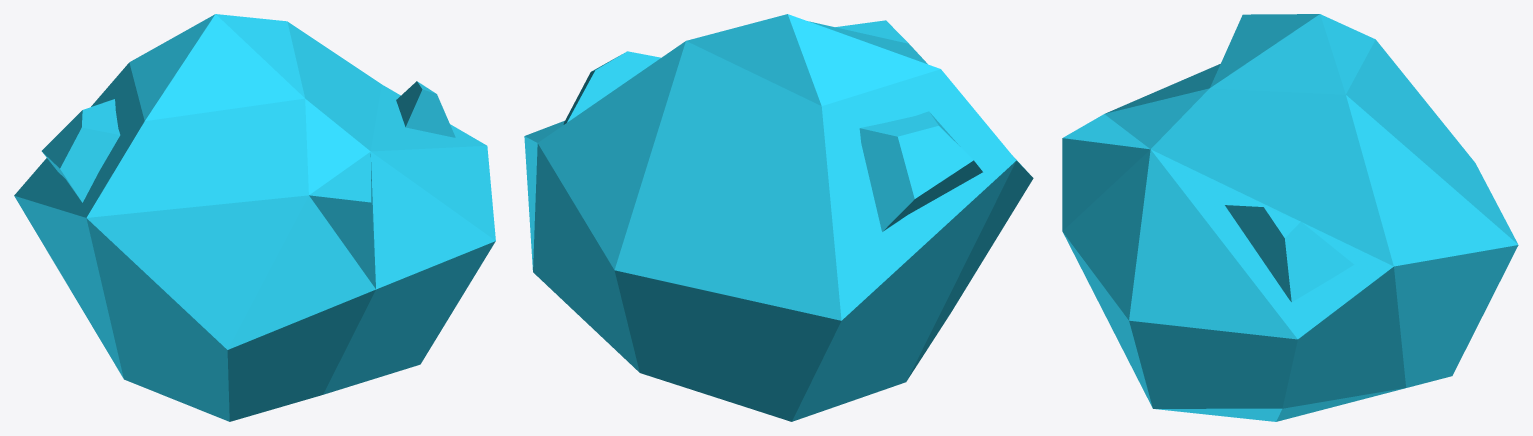
File: DropClystal.fbx
The picture shows the model from 3 angles, left to right: view 1: azimuth 30°, elevation 25°; view 2: azimuth 150°, elevation 25°; view 3: azimuth 270°, elevation 25°; orthographic projection. The views are drawn at different scales.
Visible parts, largest first — view 1: DropCristal; view 2: DropCristal; view 3: DropCristal.
Part boxes in pixels (bbox=[...]): DropCristal: bbox=[14, 14, 495, 421]; DropCristal: bbox=[524, 14, 1033, 421]; DropCristal: bbox=[1062, 14, 1518, 421].
Size of the model in its own units: 0.6321 by 0.5171 by 0.5563.
